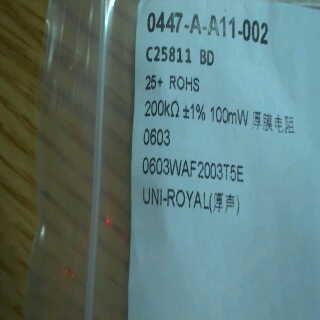200kR: (141, 97, 184, 122)
